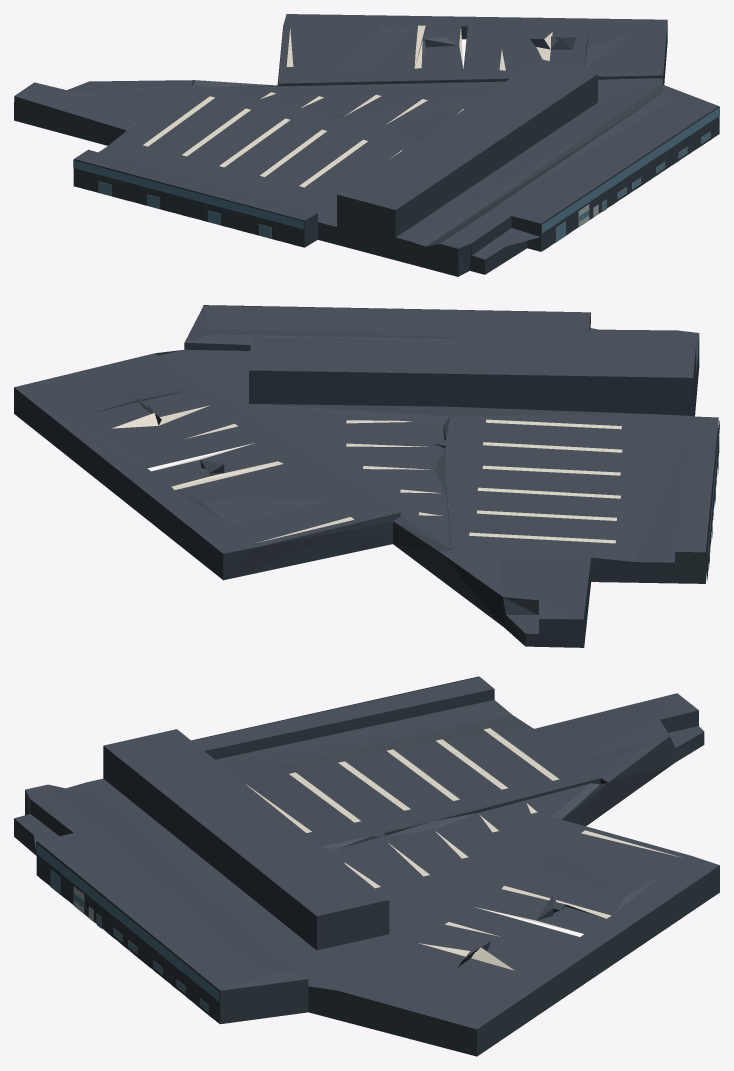
File: monk-amsterdam.lod2.glb
The picture shows the model from 3 angles, top to bottom: view 1: azimuth 30°, elevation 25°; view 2: azimuth 150°, elevation 25°; view 3: azimuth 270°, elevation 25°; orthographic projection. The views are drawn at different scales.
Visible parts, largest first — view 1: lod2; view 2: lod2; view 3: lod2.
Boxes of the visible parts, x1,y1,x2,y2 form: lod2: (14, 14, 719, 276); lod2: (14, 305, 719, 647); lod2: (14, 676, 719, 1056).
Bounding box in the file's own units: 181 × 14.65 × 155.
